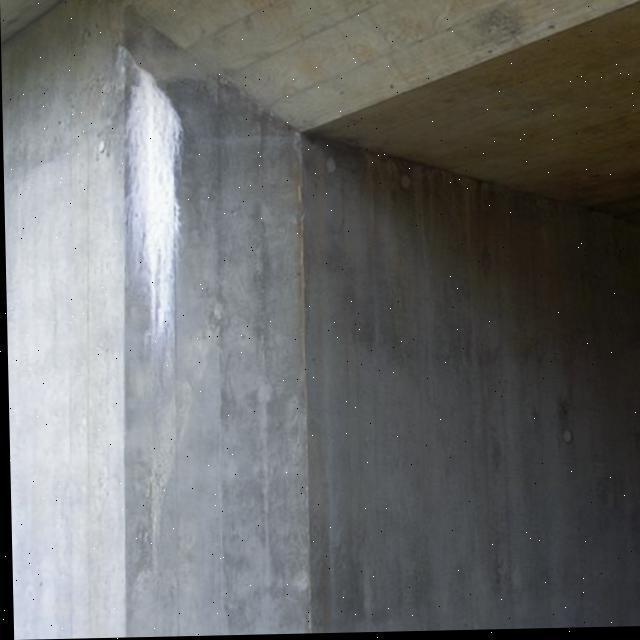D01: (122, 54, 181, 345)
